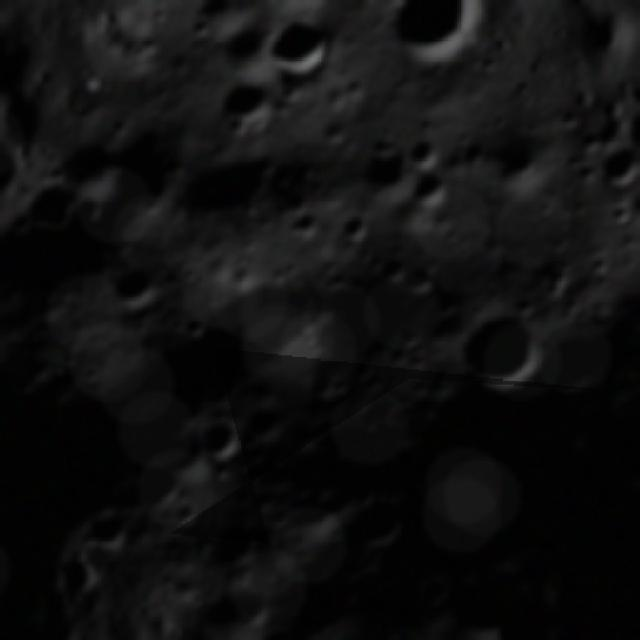crater: (194, 239, 344, 390), (439, 288, 563, 410), (324, 277, 427, 378), (256, 0, 349, 91), (204, 58, 293, 144), (438, 554, 527, 640), (379, 0, 473, 74), (7, 168, 84, 245), (341, 482, 417, 556), (100, 251, 172, 320), (189, 406, 260, 472), (75, 496, 139, 561), (204, 507, 270, 570), (403, 158, 462, 216), (238, 394, 296, 452), (589, 134, 640, 198), (408, 563, 464, 619), (396, 124, 450, 176), (492, 134, 546, 186), (617, 212, 640, 331), (284, 200, 334, 248), (396, 254, 444, 301), (275, 178, 319, 224), (174, 304, 218, 348), (166, 492, 208, 534), (339, 204, 379, 244), (375, 248, 413, 288), (325, 368, 361, 403), (266, 156, 299, 192), (242, 0, 346, 11), (87, 65, 118, 101), (627, 232, 640, 295), (373, 637, 421, 640)
